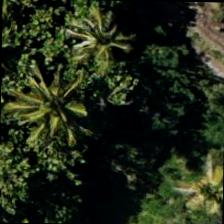Kelapa_Sawit: (4, 63, 96, 155), (60, 0, 153, 89), (165, 145, 224, 223)
